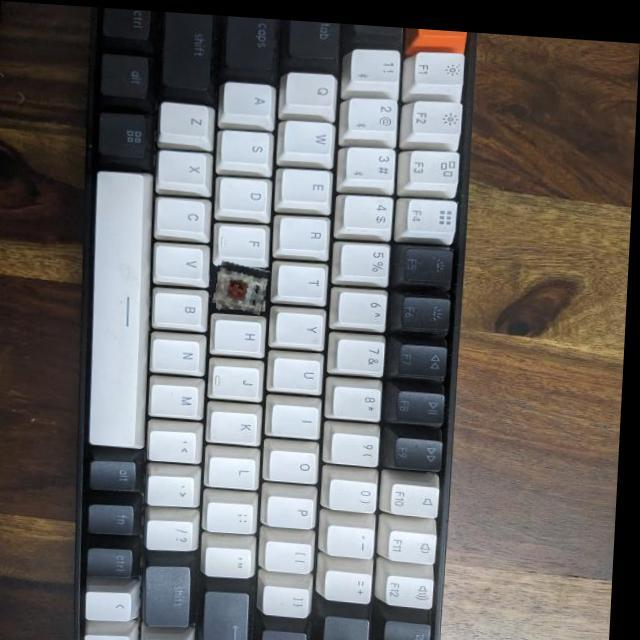key-switch: (216, 257, 272, 309)
